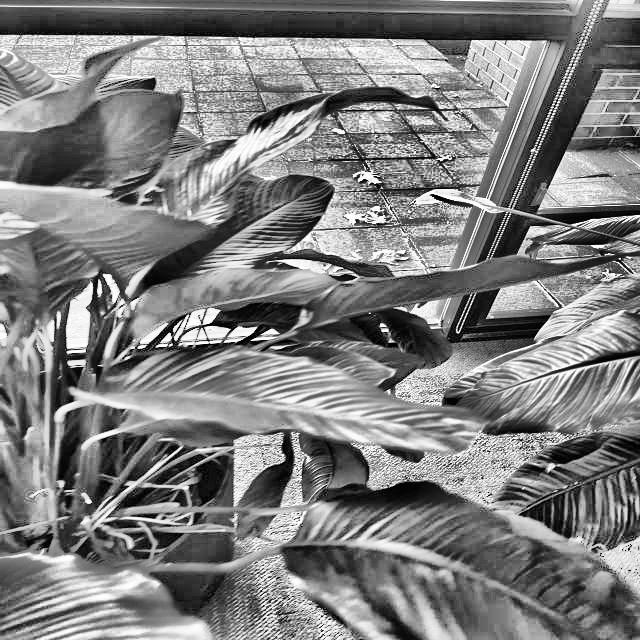plants: (8, 70, 334, 582), (485, 356, 640, 636)
